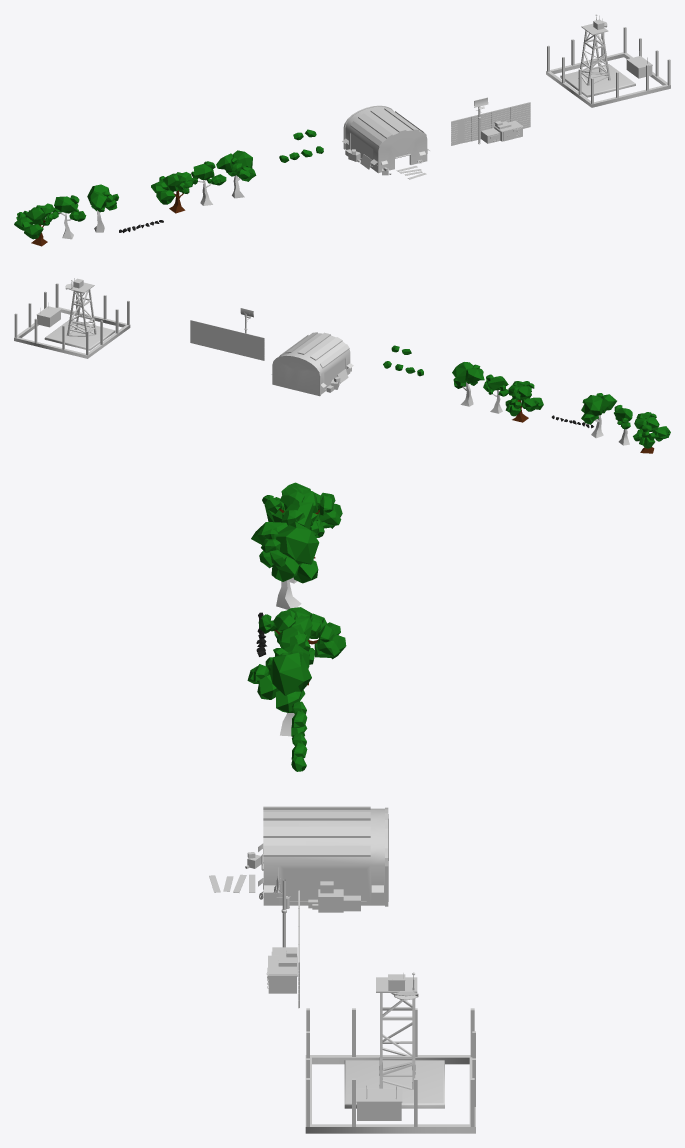
Rendered from environment_props.fbx.
3 renders of one model, top to bottom at view 1: azimuth 30°, elevation 25°; view 2: azimuth 150°, elevation 25°; view 3: azimuth 270°, elevation 25°, orthographic. The views are drawn at different scales.
Visible parts, largest first — view 1: Cylinder001, Tube003, Box106, beam, Box107, Box083; view 2: Cylinder001, Box024, Tube003, Box106, beam, Box107, GeoSphere077; view 3: Cylinder001, Box106, Tube003, beam, Box107, GeoSphere041, GeoSphere077, Box083.
Part boxes in pixels (box(x1,y1,x2,y2)): Cylinder001: box(342, 105, 429, 173); Tube003: box(546, 52, 670, 107); Box106: box(560, 64, 635, 97); beam: box(578, 30, 610, 85); Box107: box(626, 56, 652, 78); Box083: box(493, 121, 523, 141); Cylinder001: box(271, 332, 353, 396); Box024: box(190, 320, 264, 360); Tube003: box(14, 307, 130, 358); Box106: box(44, 320, 115, 350); beam: box(66, 289, 96, 336); Box107: box(36, 306, 61, 327); GeoSphere077: box(584, 395, 602, 415); Cylinder001: box(258, 806, 388, 906); Box106: box(344, 1060, 444, 1108); Tube003: box(305, 1055, 475, 1133); beam: box(379, 993, 415, 1089); Box107: box(356, 1088, 402, 1120); GeoSphere041: box(269, 652, 311, 695); GeoSphere077: box(276, 521, 319, 564); Box083: box(267, 955, 297, 993).
Bounding box in the file's own units: 72646 × 7202 × 13765.
